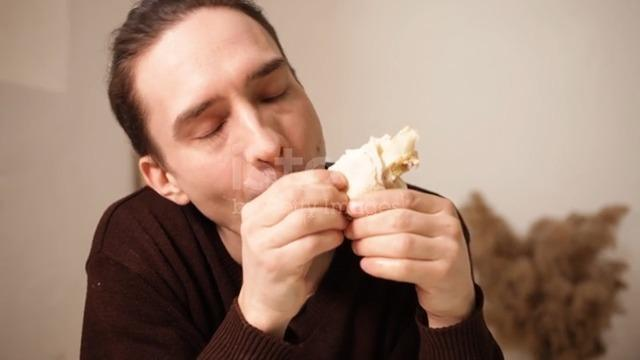Eating: (97, 14, 479, 360)
